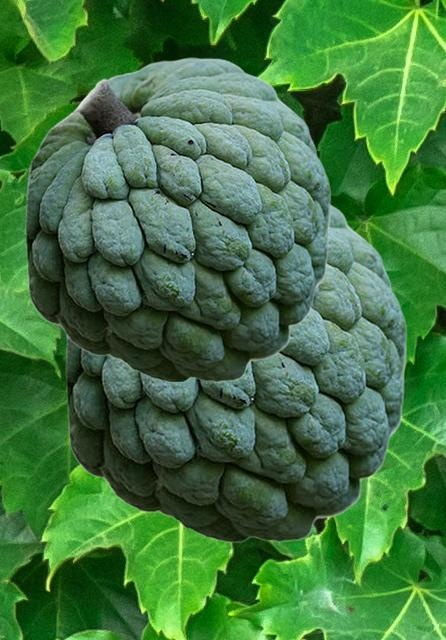atis: (65, 201, 406, 542), (25, 57, 330, 382)
